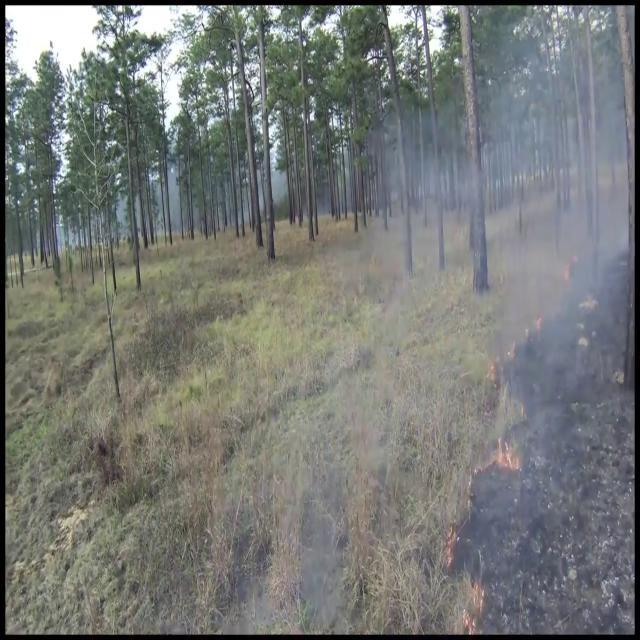Smoke: (360, 26, 634, 620)
